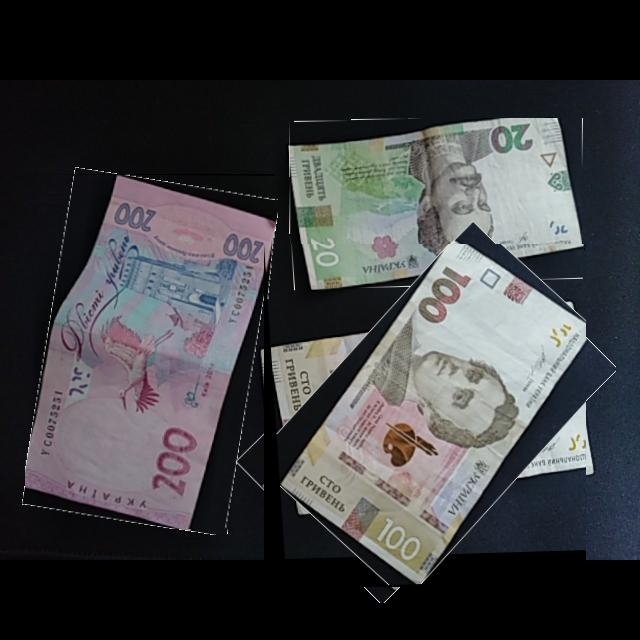100uah: (277, 244, 587, 586)
200uah: (25, 175, 276, 530)
20uah: (289, 118, 583, 292)
